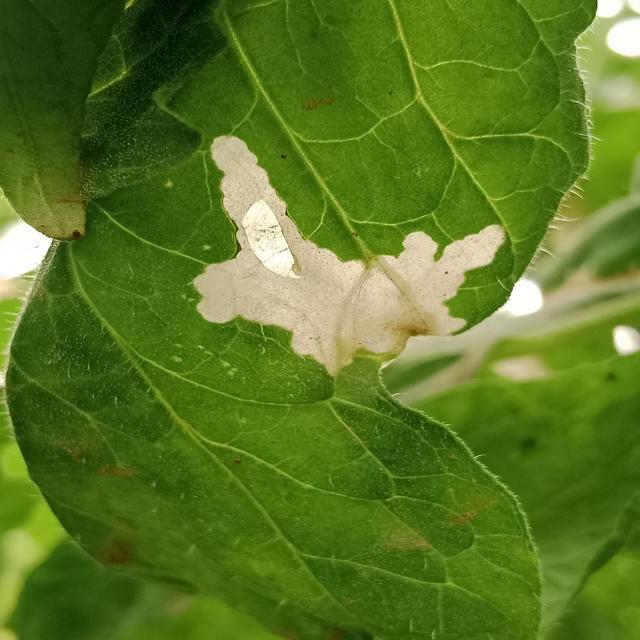Tuta absoluta: (154, 127, 508, 414)
